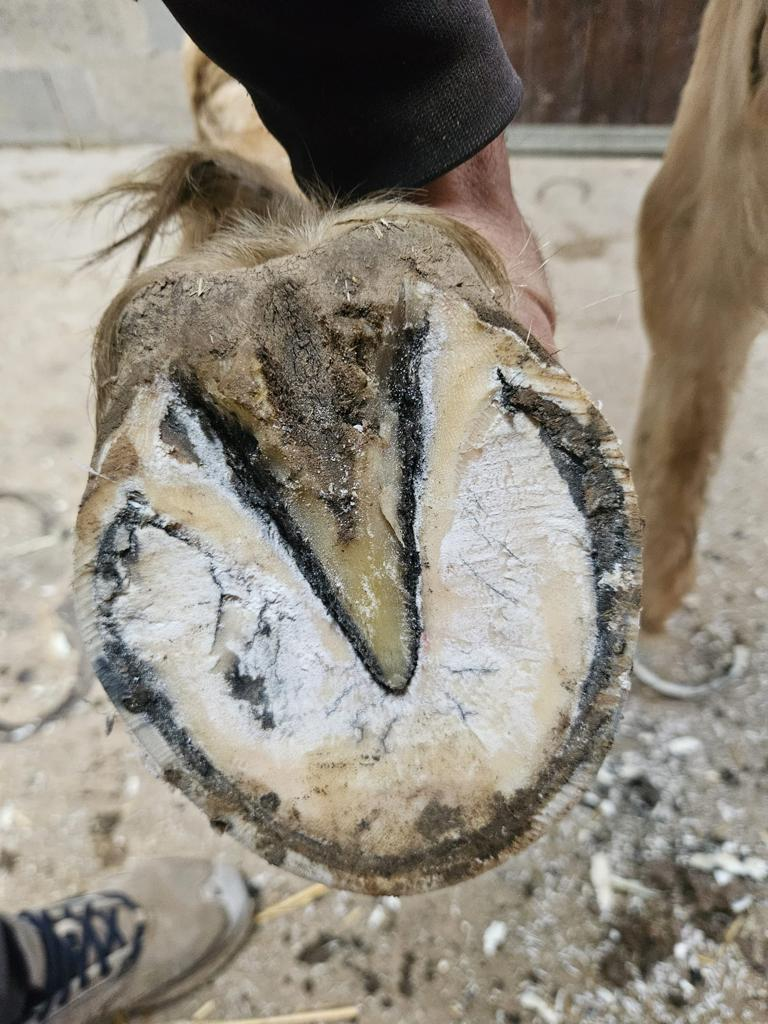horsesole: (73, 271, 645, 894)
